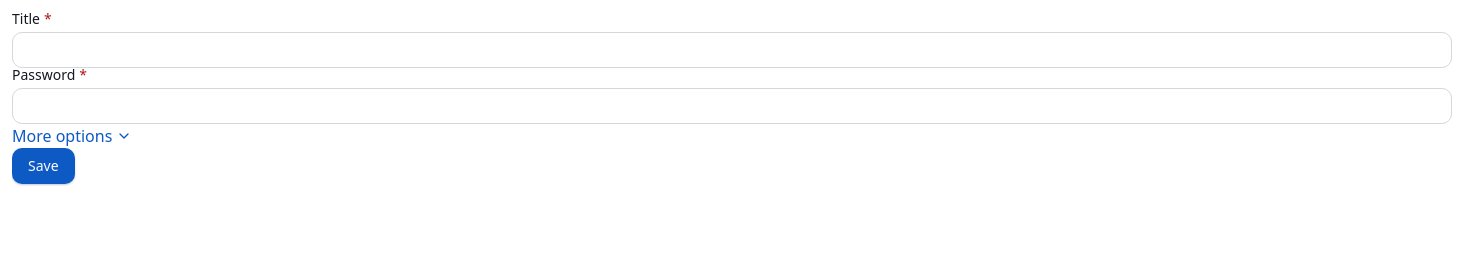
Test: form fields › "More options" starts collapsed (hidden from view and screen readers) and toggles
Expected: the field labelled "Minutes" is not shown
Step 1. Click the button "More options" → (72, 136), box [12, 124, 132, 148]
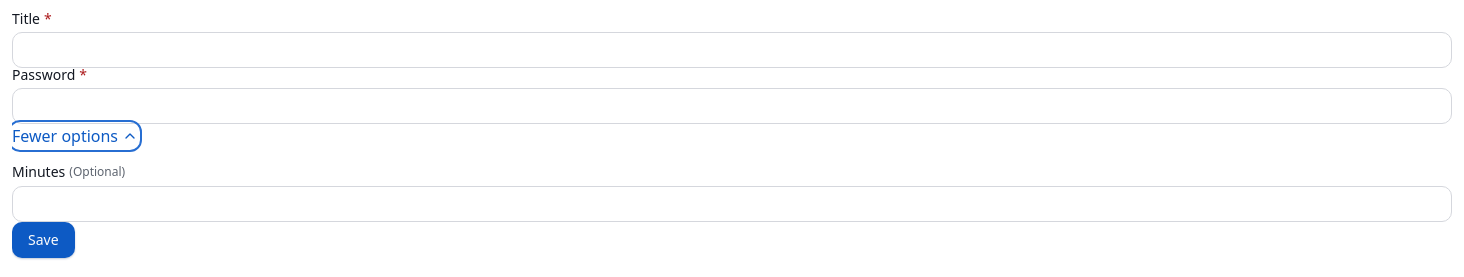
Expected: the number field labelled "Minutes (Optional)" is shown, [12, 186, 1452, 222]
Step 2. Click the button "Fewer options" → (75, 136), box [12, 124, 138, 148]
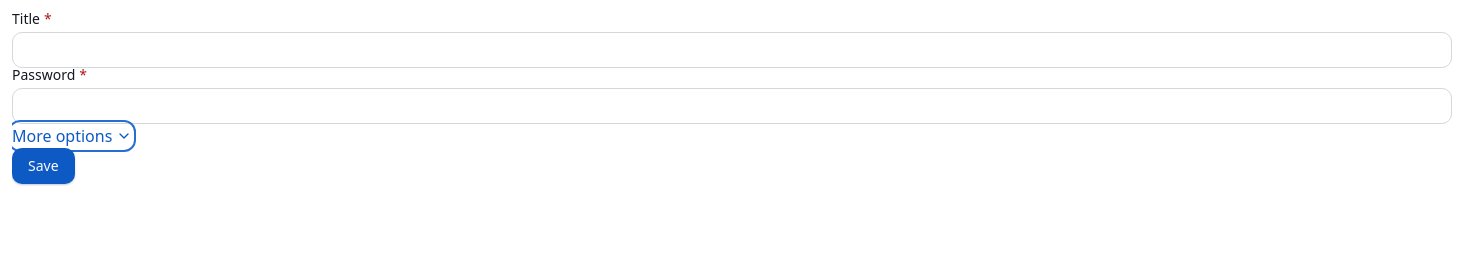
Expected: the label labelled "Minutes" is gone
